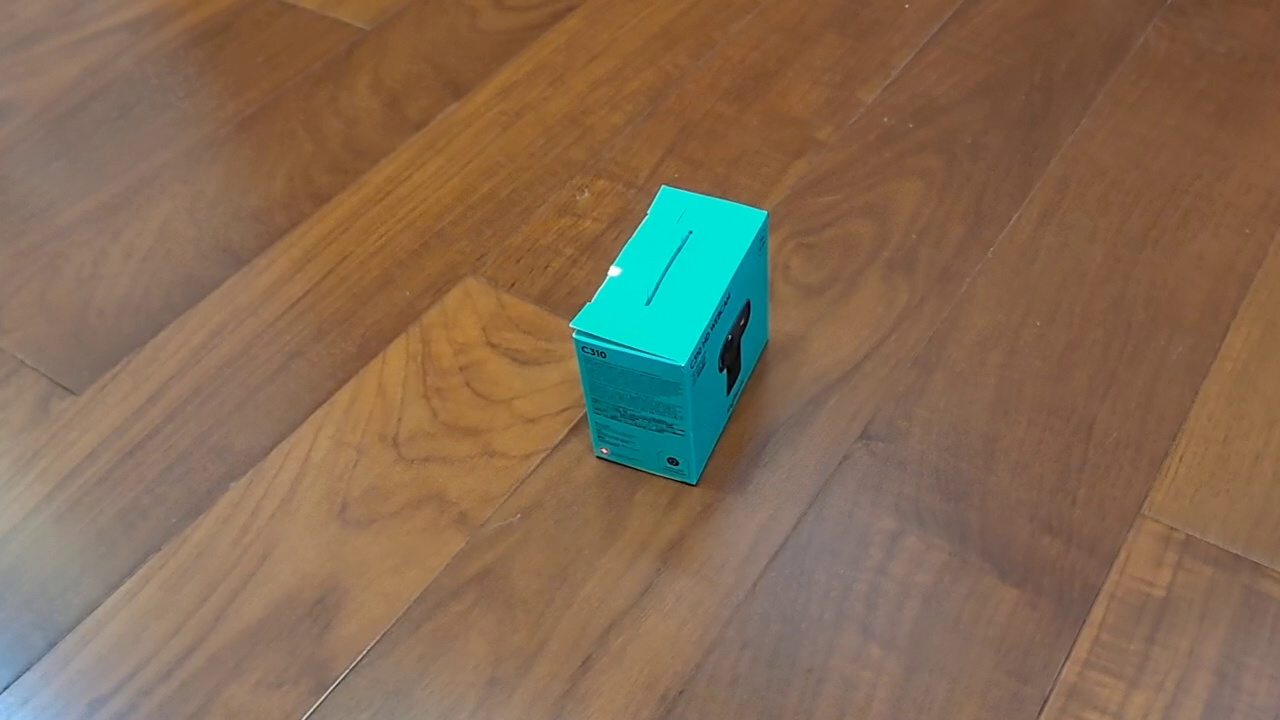webcam: (568, 184, 769, 487)
